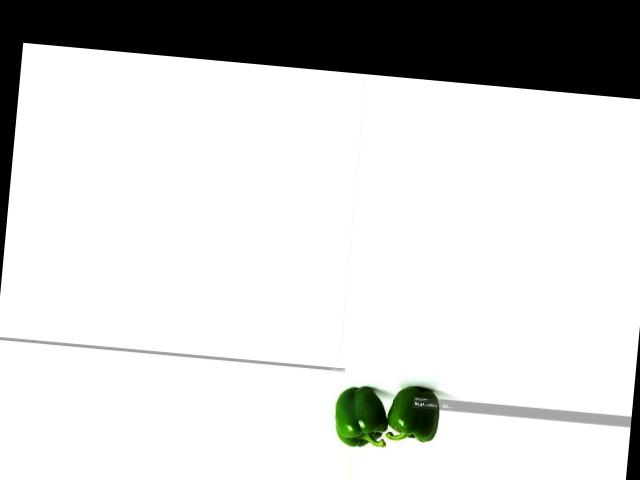bell_pepper: (332, 375, 390, 453)
